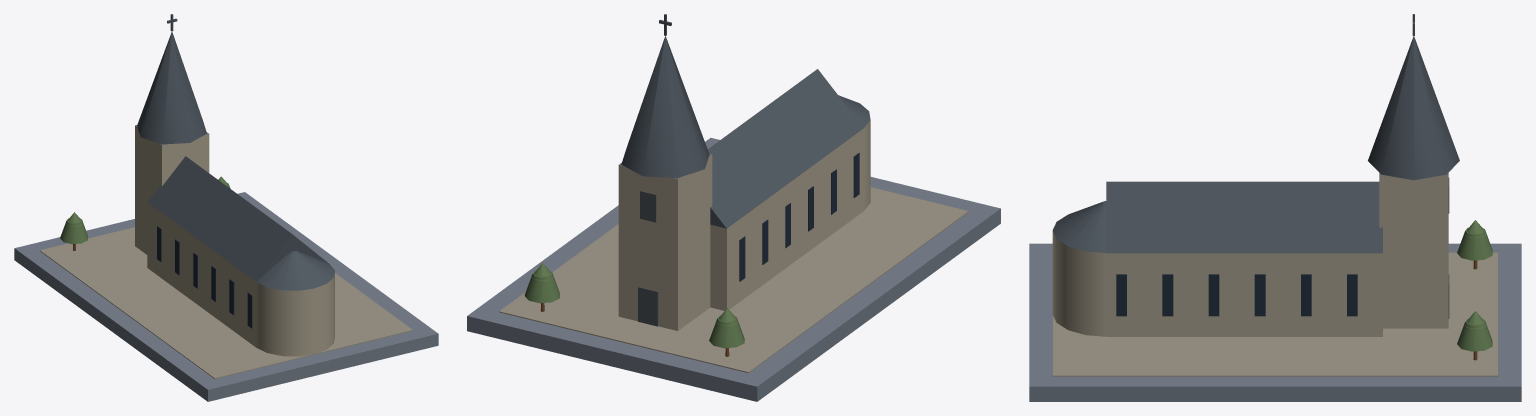
Rendered from church.glb.
The picture shows the model from 3 angles, left to right: view 1: azimuth 30°, elevation 25°; view 2: azimuth 150°, elevation 25°; view 3: azimuth 270°, elevation 25°; orthographic projection. The views are drawn at different scales.
Parts seen in each view (by area): view 1: church; view 2: church; view 3: church.
Boxes of the visible parts, x1=… form: church: x1=14, y1=14, x2=438, y2=401; church: x1=467, y1=14, x2=1000, y2=401; church: x1=1029, y1=14, x2=1521, y2=401.
Size of the model in its own units: 44 by 45.35 by 64.
